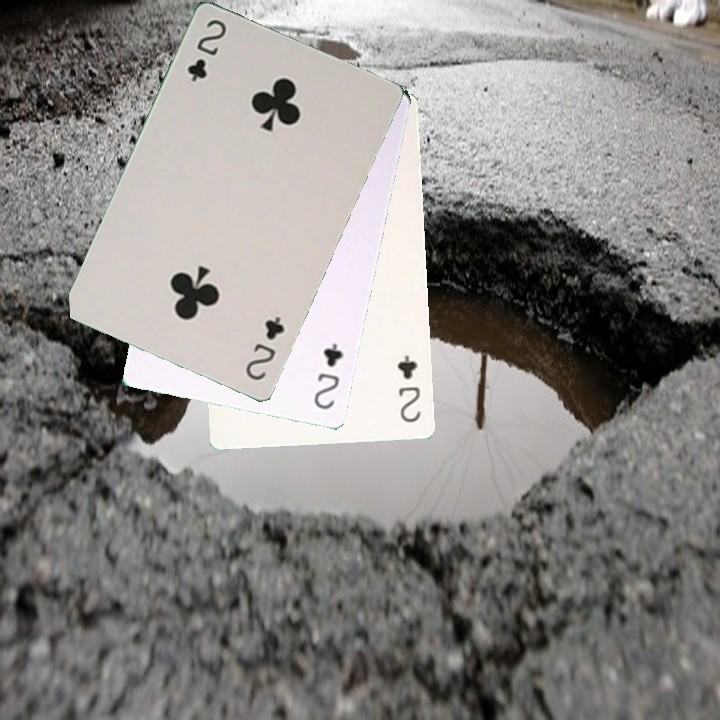2c: (183, 15, 230, 85), (241, 312, 287, 383), (309, 339, 346, 412), (393, 351, 423, 425)
